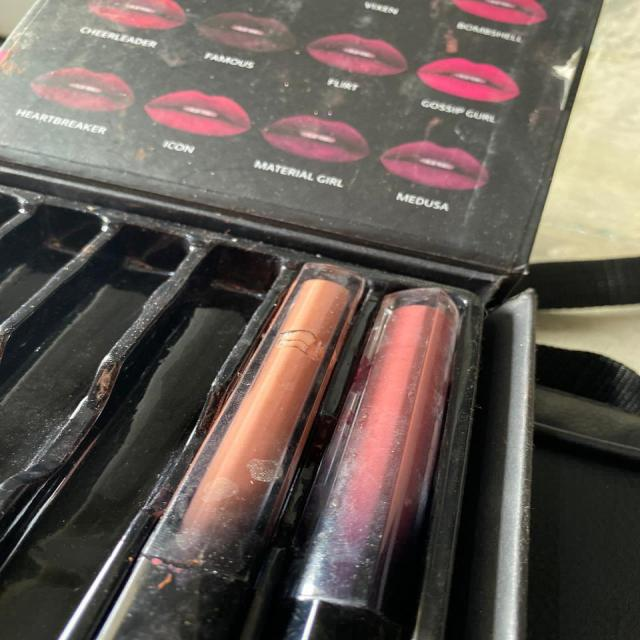lip gloss: (79, 257, 512, 640)
